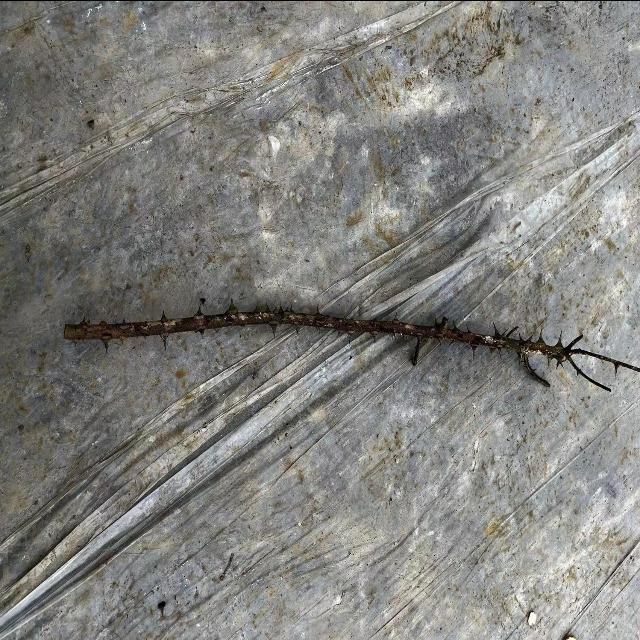branch: (64, 304, 571, 354)
